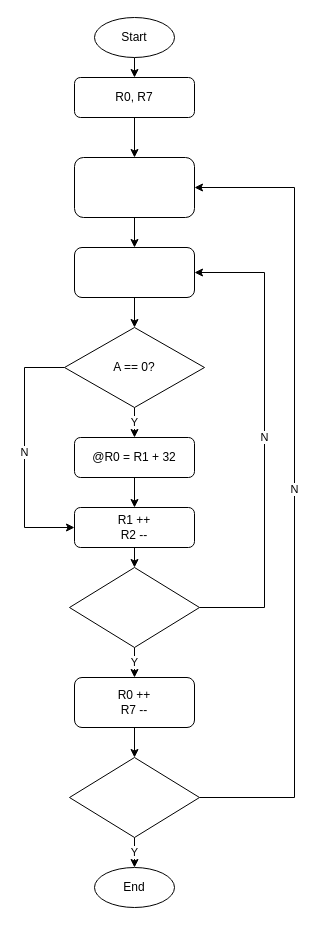
The diagram is 320 pixels wide and 925 high, and some of its shapes have lost their labels. The shapes that lost their labels are listed below. From the top down, each one's box as (x1, y1, x2, y2) in pixels, then its label:
(74, 156, 194, 218): R1 = 41H R2 = 26
(74, 246, 194, 298): A = R1 XOR @R0
(68, 566, 200, 648): R2 == 0?
(68, 756, 200, 838): R7 == 0?
